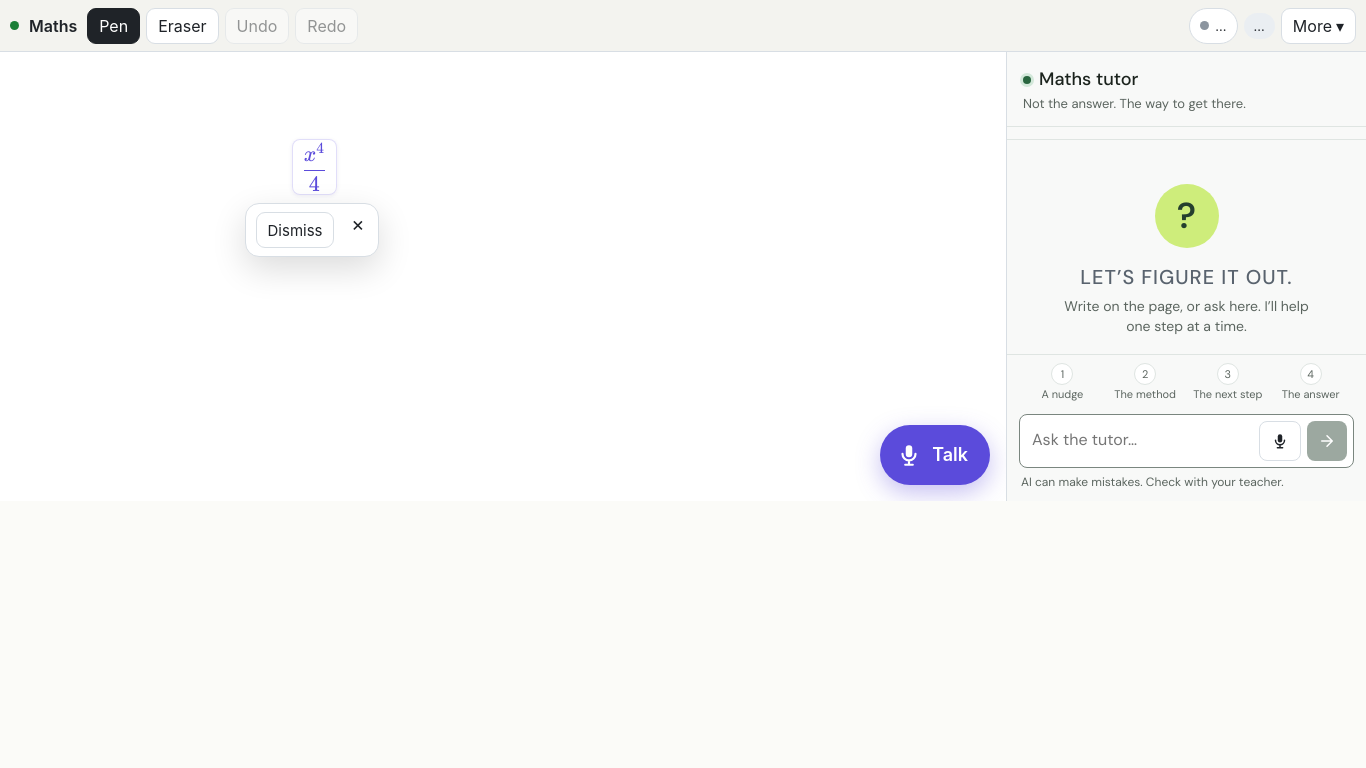
Scenario: formula in the app › tap → Dismiss sends mark.dismiss with its id; a retract removes it
Later steps or results of the test are not shown.
Expected: the element with class "katex" is shown, 304,139 -> 324,197
Step 1. Click the button "Dismiss" → (295, 230), box 256,212 -> 334,248
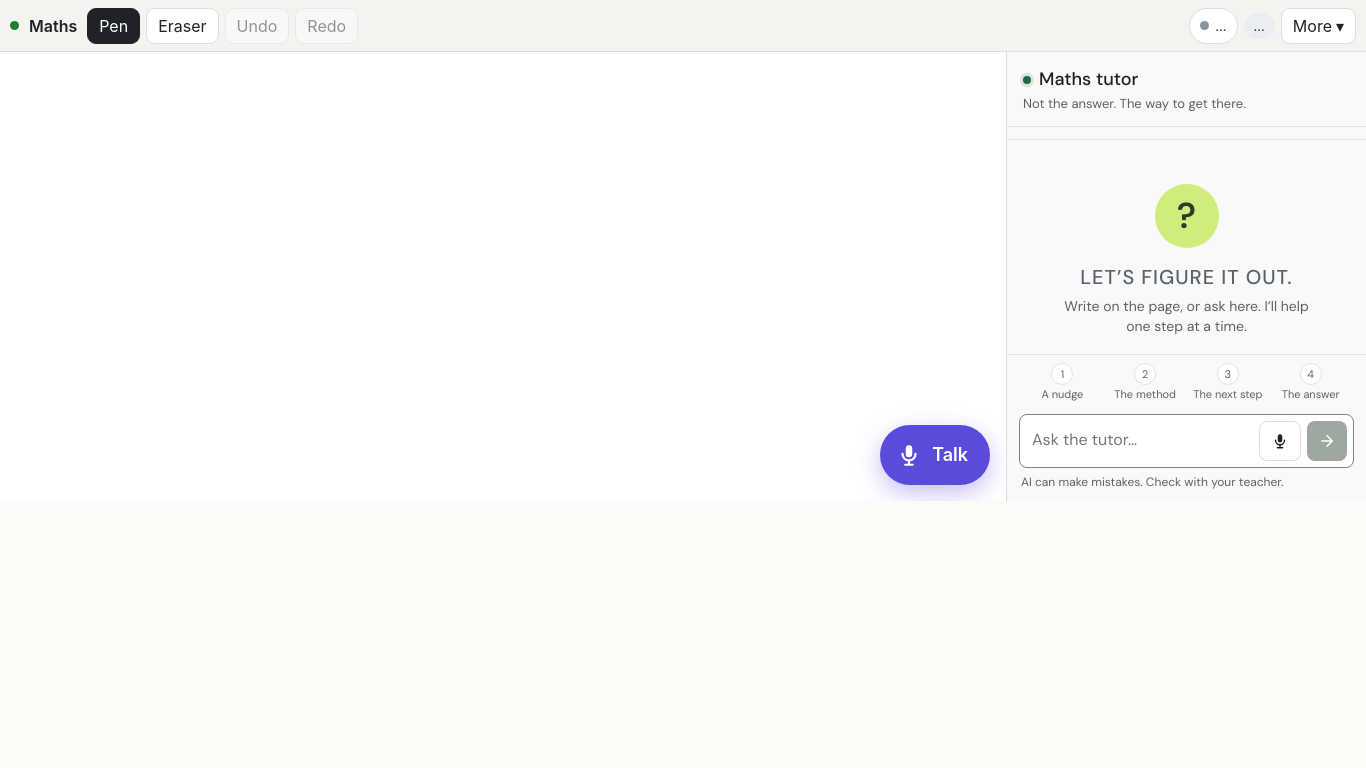
Expected: the dialog is gone
Expected: the button with class "formula" is gone
